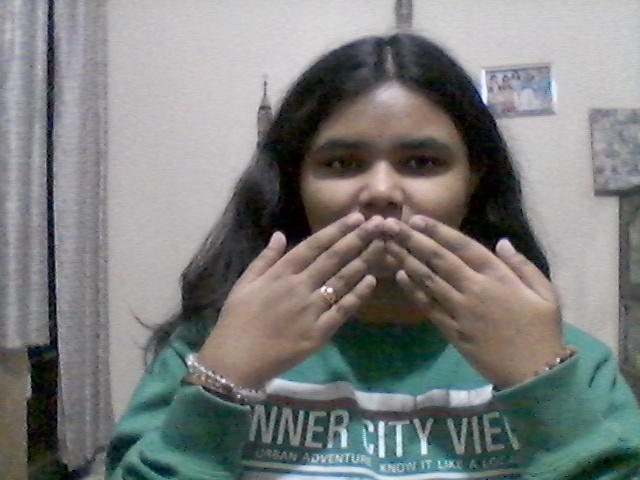thank you: (192, 203, 572, 401)
